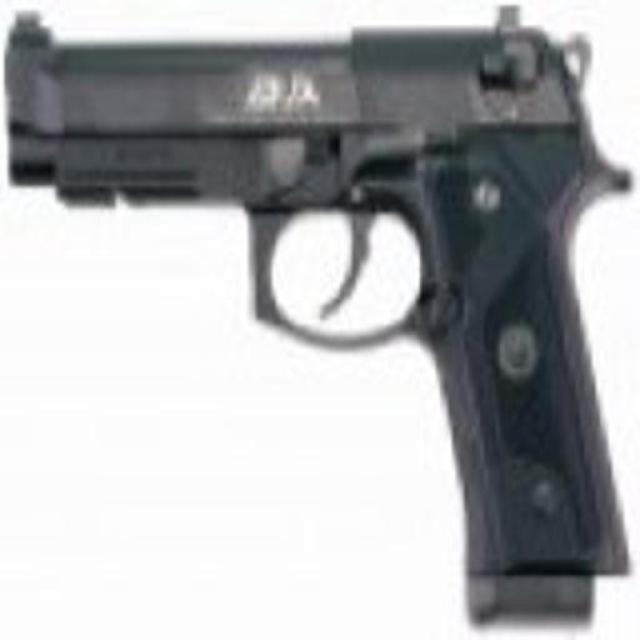pistol: (11, 10, 627, 575)
